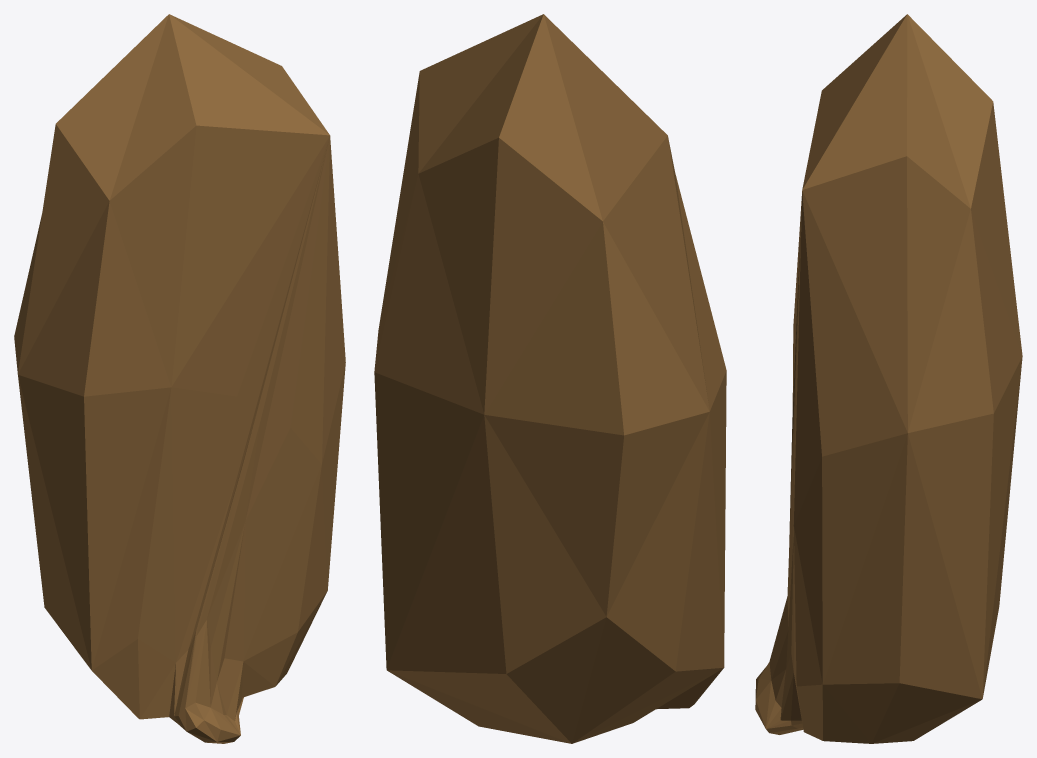
3 views of the same model, side by side, from view 1: azimuth 30°, elevation 25°; view 2: azimuth 150°, elevation 25°; view 3: azimuth 270°, elevation 25° (orthographic). The views are drawn at different scales.
Parts seen in each view (by area): view 1: 985_Cube.3974; view 2: 985_Cube.3974; view 3: 985_Cube.3974.
Part boxes in pixels (x1=…): 985_Cube.3974: x1=14, y1=14, x2=345, y2=743; 985_Cube.3974: x1=374, y1=14, x2=726, y2=743; 985_Cube.3974: x1=755, y1=14, x2=1022, y2=743.
Size of the model in its own units: 5.83 by 12.67 by 4.24.
